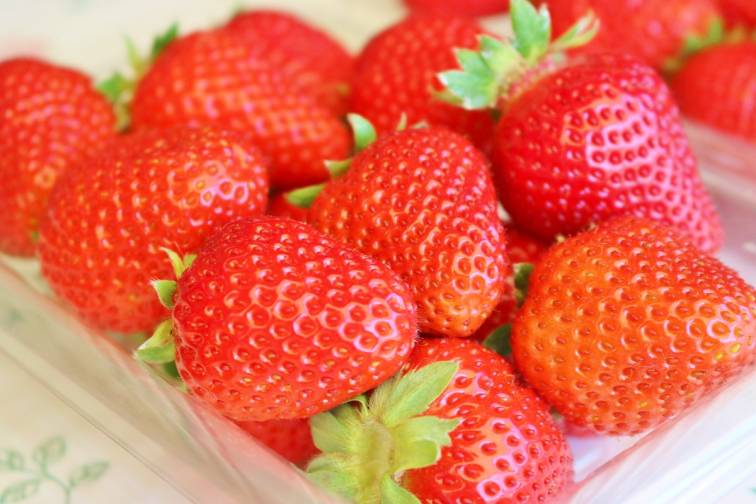ripe: (125, 5, 399, 215), (517, 200, 754, 422), (166, 222, 424, 421), (32, 131, 280, 334), (311, 331, 583, 504), (498, 49, 709, 267), (307, 126, 512, 349), (349, 18, 530, 180), (2, 38, 128, 267)
